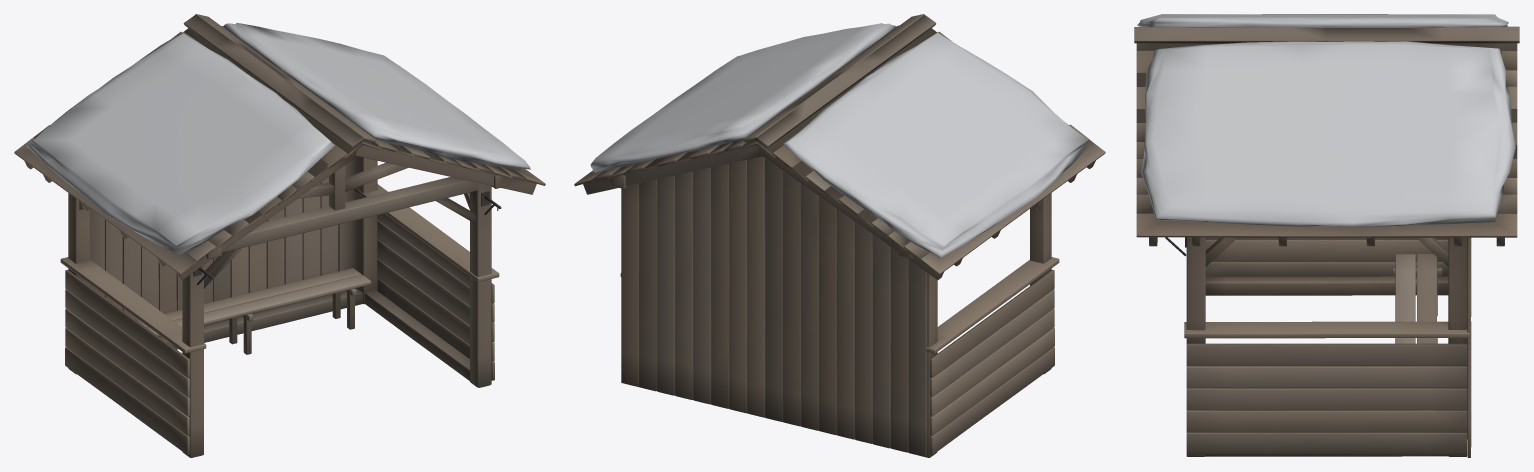
File: shelter.glb
3 renders of one model, left to right at view 1: azimuth 30°, elevation 25°; view 2: azimuth 150°, elevation 25°; view 3: azimuth 270°, elevation 25°, orthographic. The views are drawn at different scales.
Visible parts, largest first — view 1: wood, snow; view 2: wood, snow; view 3: wood, snow.
Boxes of the visible parts, x1,y1,x2,y2 form: wood: (14,14,545,457); snow: (26,23,530,255); wood: (574,14,1105,457); snow: (590,23,1087,257); wood: (1134,26,1519,457); snow: (1137,14,1515,226).
Bounding box in the file's own units: 4.1 × 3.21 × 3.24.
